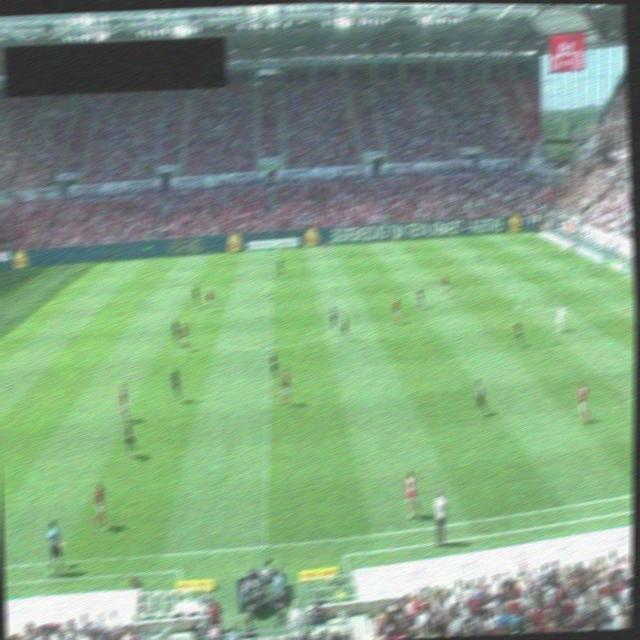bigarea_top_inner: (477, 249, 491, 262)
bigarea_top_outter: (560, 245, 574, 256)
bottom_arc_area_intersection: (564, 307, 579, 319)
corner: (523, 228, 537, 240)
halfcircle_bottom: (263, 342, 278, 355)
halfcircle_top: (266, 285, 280, 297)
midline_bottom_intersection: (256, 536, 273, 555)
midline_top_intersection: (266, 244, 280, 257)
smallarea_top_inner: (570, 264, 584, 276)
smallarea_top_outter: (599, 260, 613, 273)
top_arc_area_intersection: (510, 272, 526, 284)
